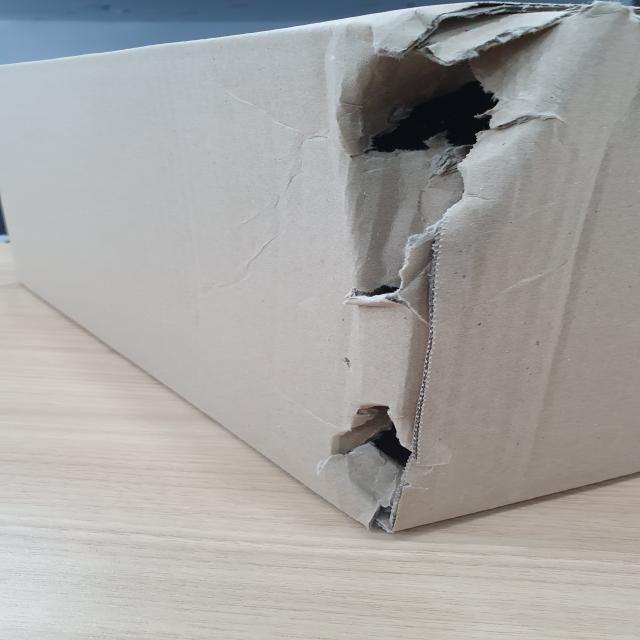hole: (341, 14, 567, 167), (328, 403, 426, 489), (344, 272, 419, 308)
